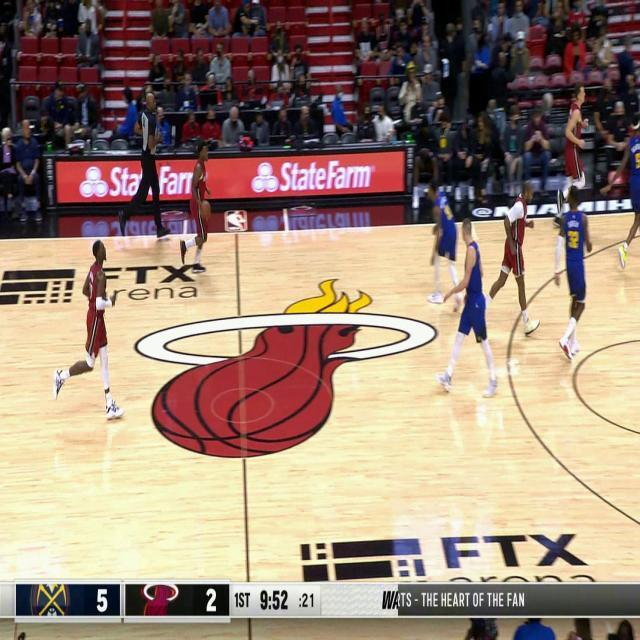rim: (200, 200, 210, 222)
